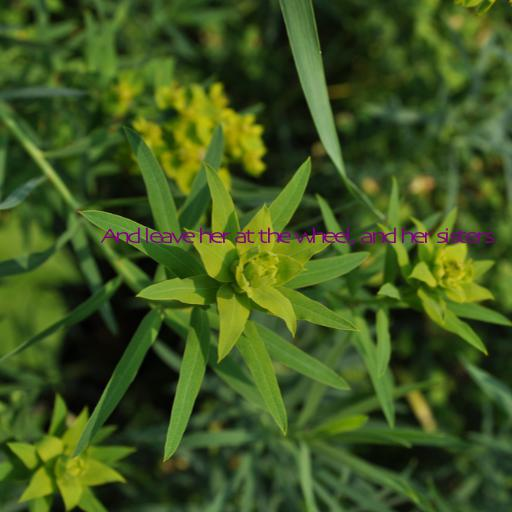Skia: (100, 227, 492, 246)
